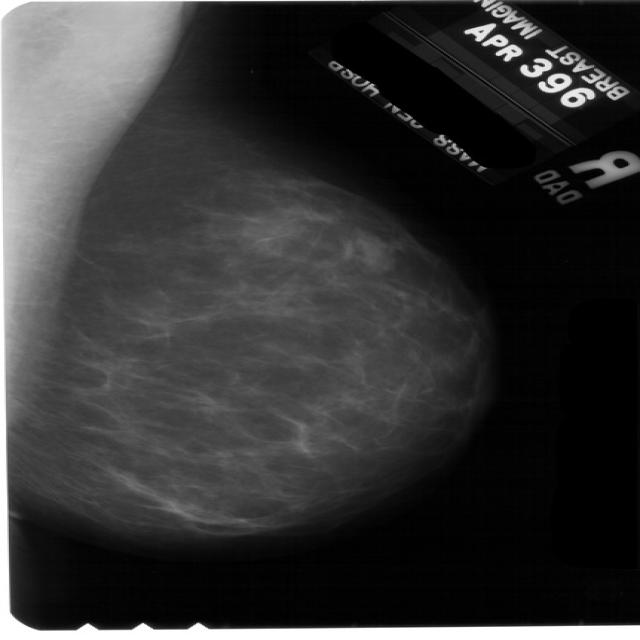tumour: (350, 227, 395, 273)
